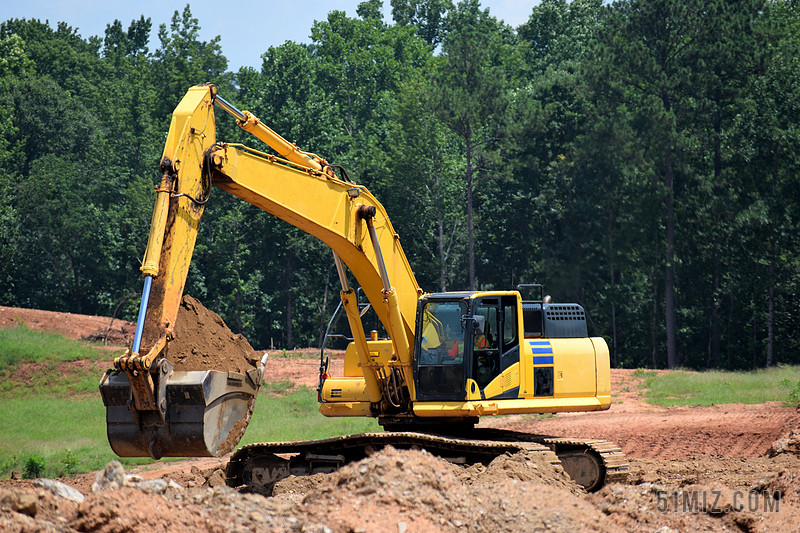excavator: (92, 75, 649, 493)
